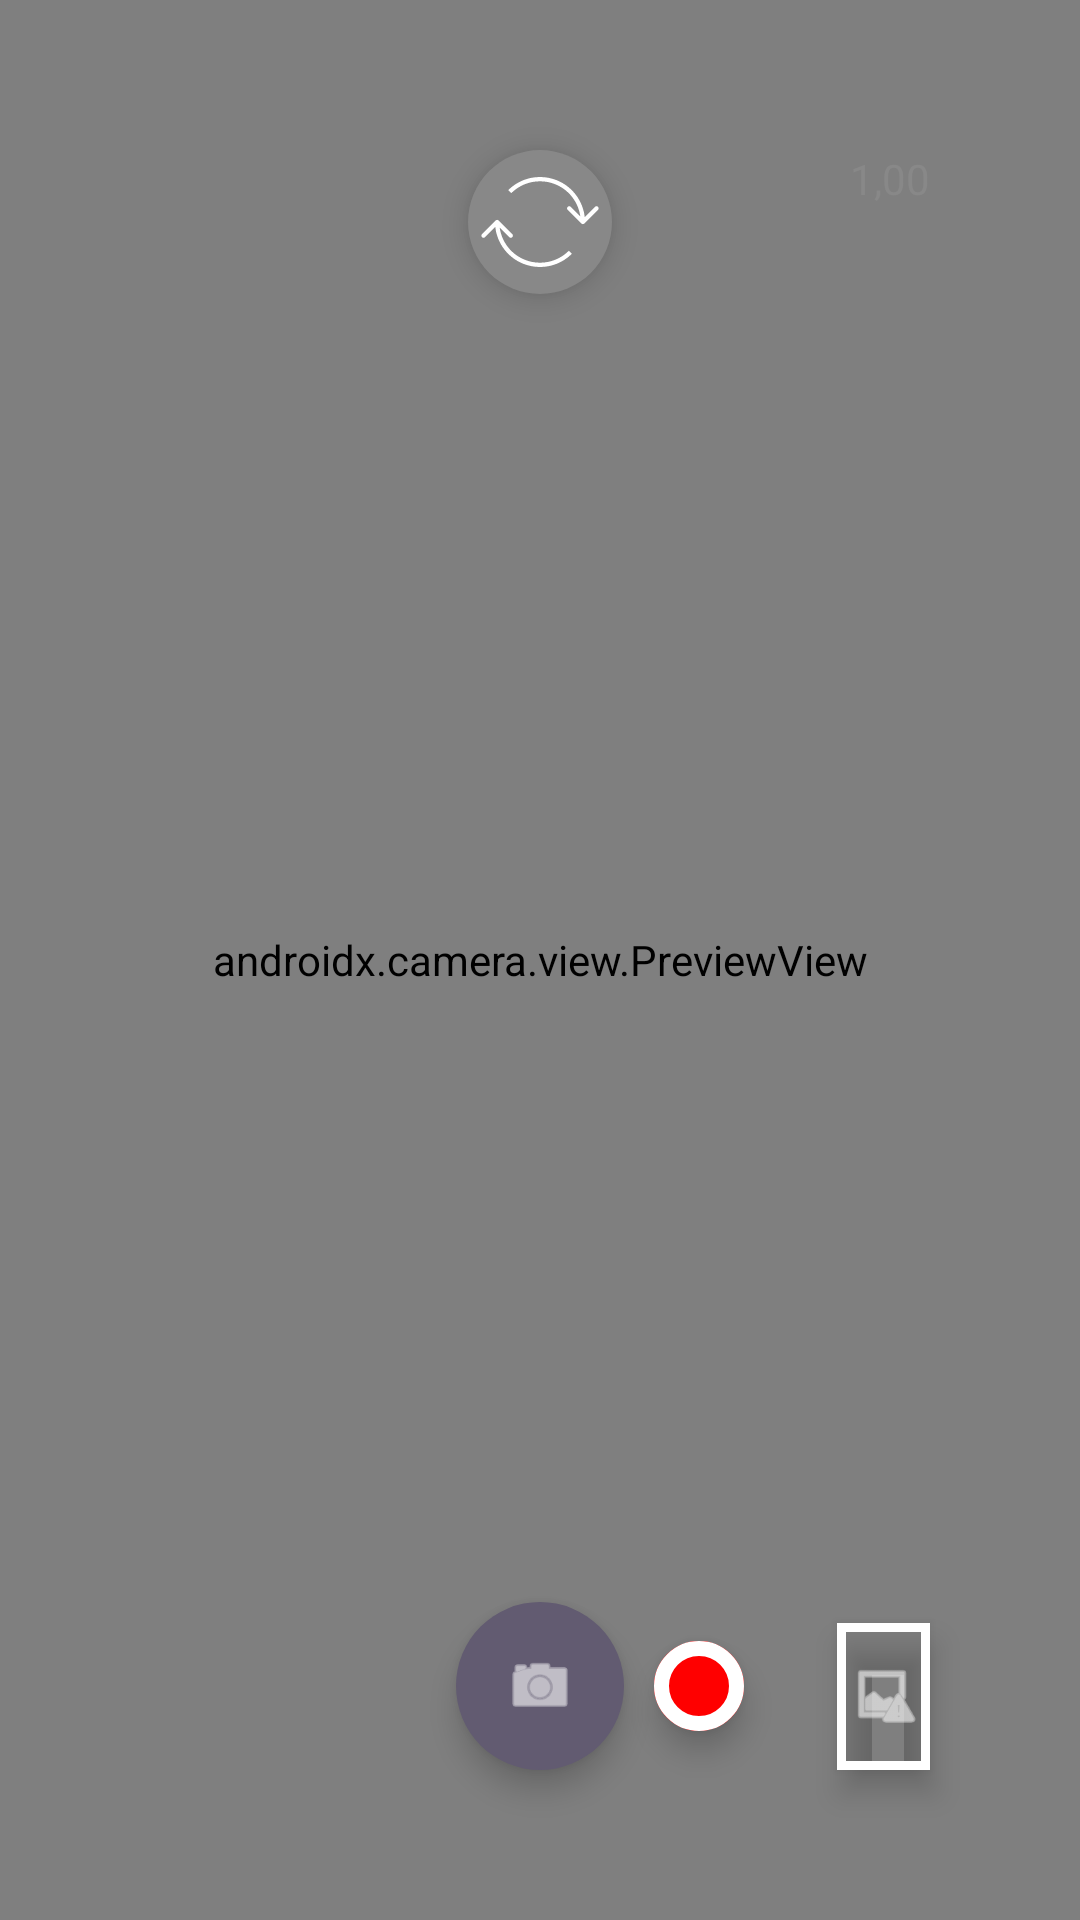

Icons on this 1080px x 1920px Android screen, each with the point to tap as [x,y]:
refresh: [540,222]
